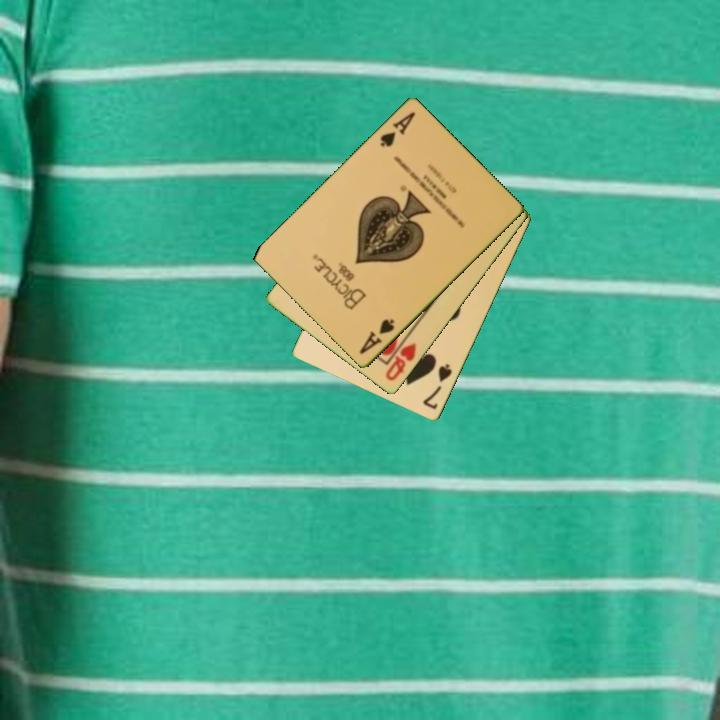7s: (419, 361, 455, 413)
As: (356, 316, 397, 358), (377, 108, 418, 150)
Qh: (382, 340, 419, 384)
